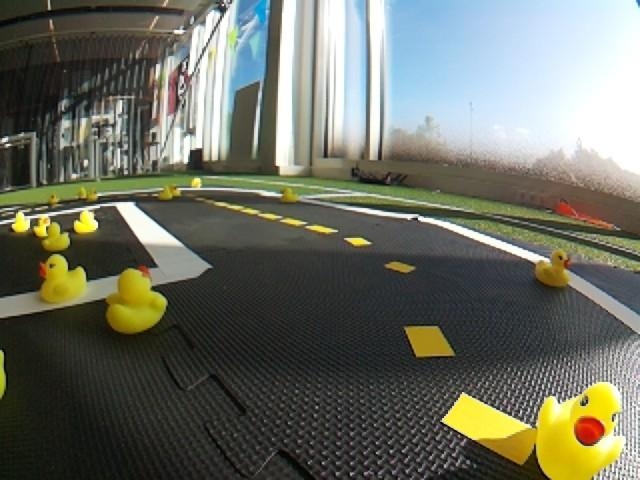Duckies: (536, 383, 622, 480), (104, 268, 166, 332), (39, 254, 86, 304), (533, 248, 573, 289), (41, 222, 71, 251), (74, 211, 98, 233), (10, 212, 30, 233), (33, 217, 53, 237), (282, 191, 301, 203), (158, 185, 173, 199), (88, 187, 97, 202), (191, 177, 202, 189), (48, 192, 60, 202), (78, 187, 87, 198)
